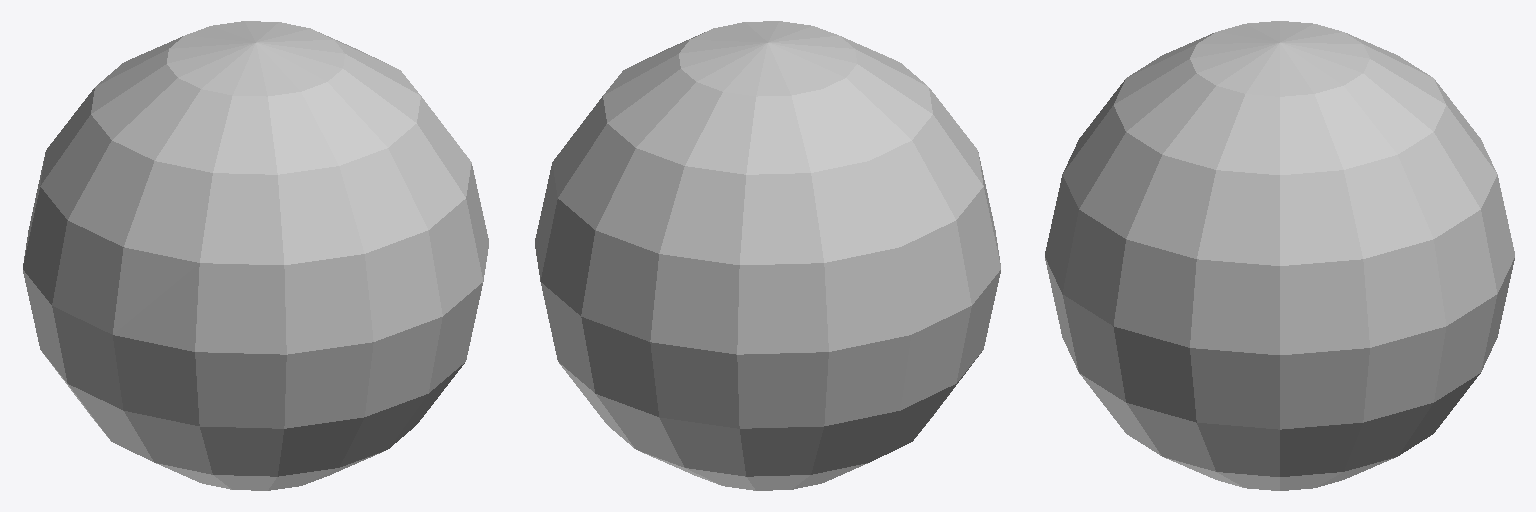
Rendered from bola7.obj.
The picture shows the model from 3 angles: view 1: azimuth 30°, elevation 25°; view 2: azimuth 150°, elevation 25°; view 3: azimuth 270°, elevation 25°; orthographic projection.
Visible parts, largest first — view 1: POOL_TABLE.031; view 2: POOL_TABLE.031; view 3: POOL_TABLE.031.
Boxes of the visible parts, x1,y1,x2,y2 form: POOL_TABLE.031: [23, 21, 488, 490]; POOL_TABLE.031: [535, 21, 1000, 490]; POOL_TABLE.031: [1045, 21, 1514, 490].
Size of the model in its own units: 0.0585 by 0.0585 by 0.0585.